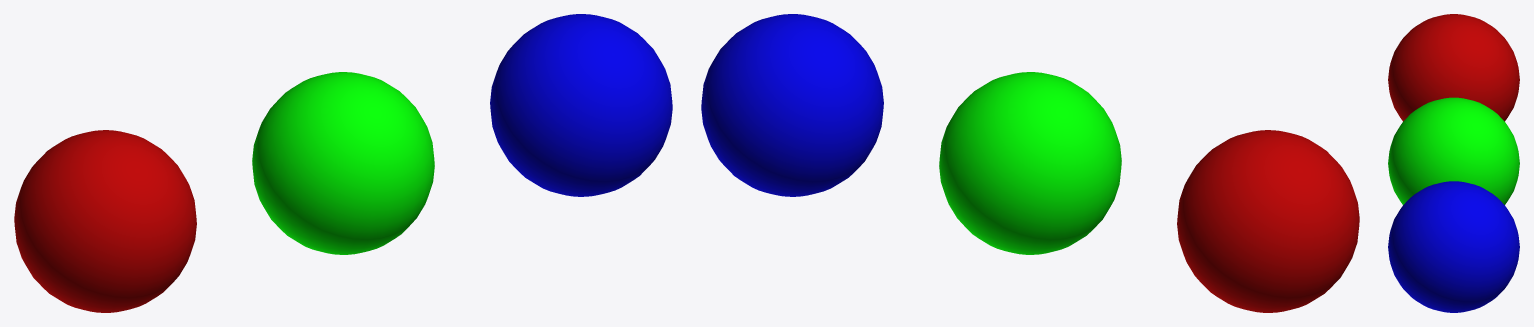
3 renders of one model, left to right at view 1: azimuth 30°, elevation 25°; view 2: azimuth 150°, elevation 25°; view 3: azimuth 270°, elevation 25°, orthographic. The views are drawn at different scales.
Visible parts, largest first — view 1: PhysicalMesh, StandardMesh, StandardArnoldMesh; view 2: PhysicalMesh, StandardMesh, StandardArnoldMesh; view 3: StandardArnoldMesh, StandardMesh, PhysicalMesh.
Part boxes in pixels (left/top/right/bottom): PhysicalMesh: left=252, top=72, right=434, bottom=254; StandardMesh: left=14, top=130, right=196, bottom=312; StandardArnoldMesh: left=490, top=14, right=672, bottom=196; PhysicalMesh: left=939, top=72, right=1121, bottom=254; StandardMesh: left=1177, top=130, right=1359, bottom=312; StandardArnoldMesh: left=701, top=14, right=883, bottom=196; StandardArnoldMesh: left=1388, top=181, right=1519, bottom=312; StandardMesh: left=1388, top=14, right=1519, bottom=121; PhysicalMesh: left=1388, top=97, right=1519, bottom=204.
Size of the model in its own units: 8 by 2 by 2.
